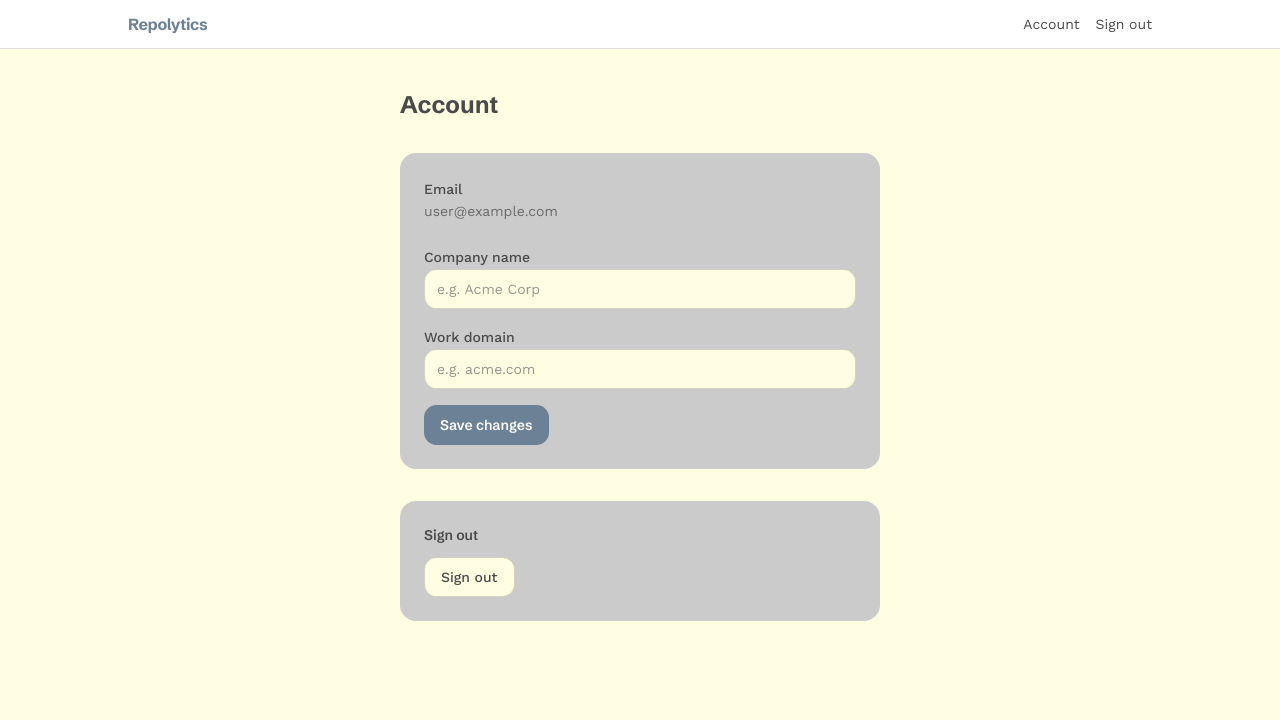
AccountPage › shows an error message when save fails
The image size is (1280, 720).
Expected: the field with placeholder "e.g. Acme Corp" is shown, left=424, top=269, right=856, bottom=309
Click the button "Save changes" at (486, 425), box left=424, top=405, right=548, bottom=445
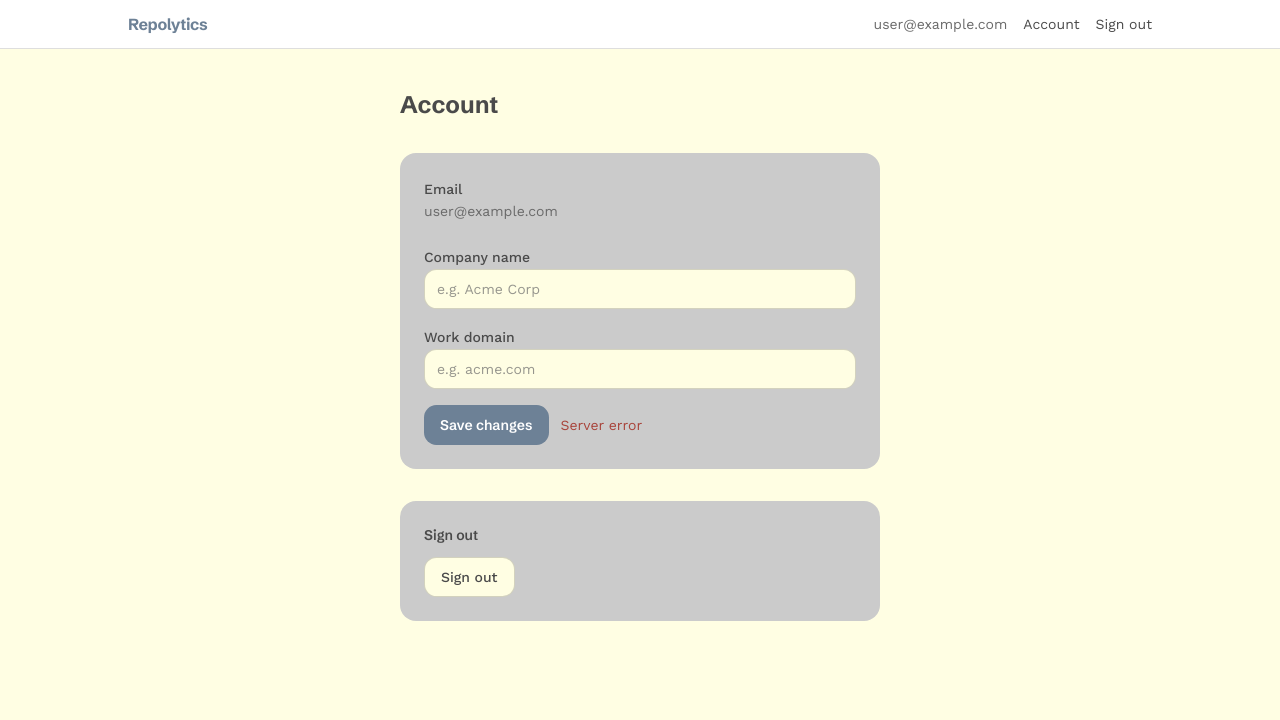
Result: the text "Server error" is shown at left=560, top=415, right=642, bottom=435
